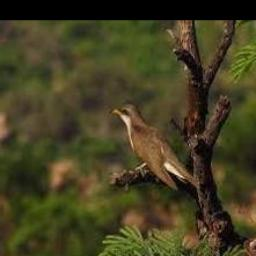Cuckoo: (112, 102, 199, 191)
